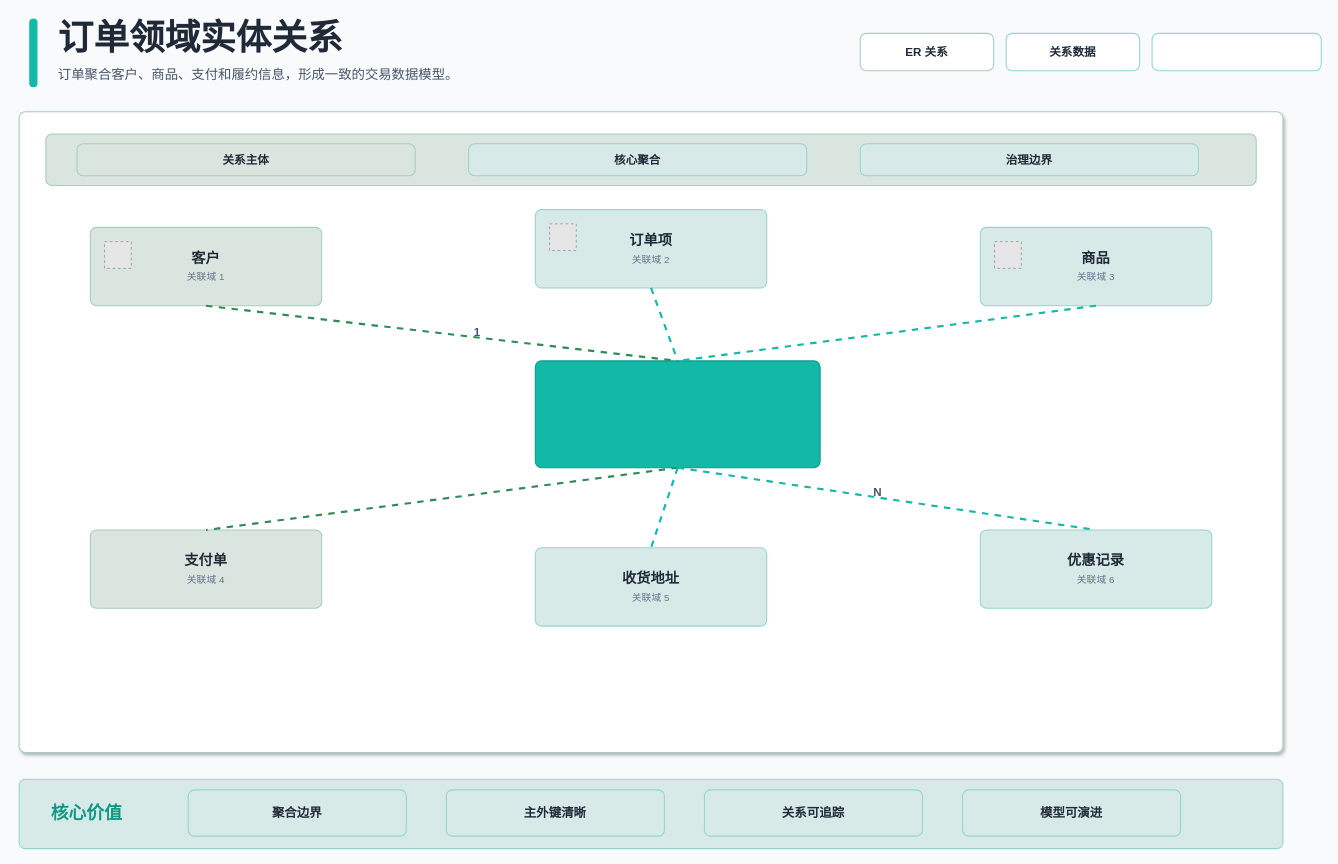
This 1338x864 diagram has some shape labels left out. Grey dashed boxes stand in for pictures. Each missing label, with the centre of its shape:
"Mint green" goes at [1236,51].
"订单 核心主题" goes at [677,414].
